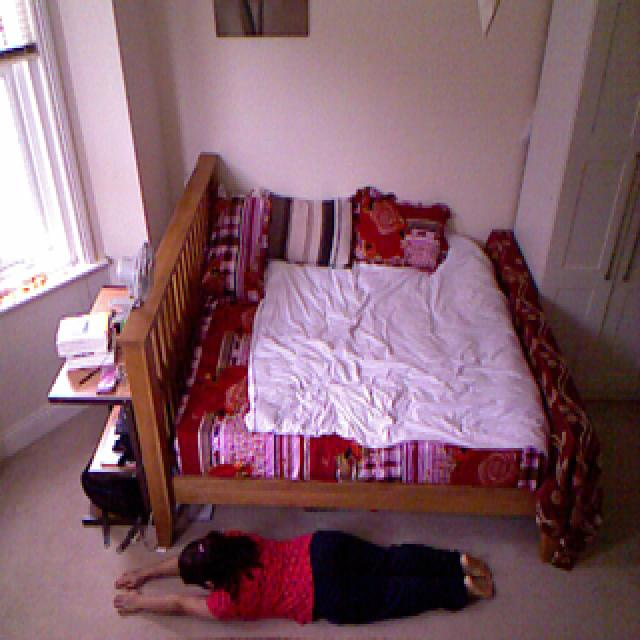lying: (105, 524, 509, 628)
